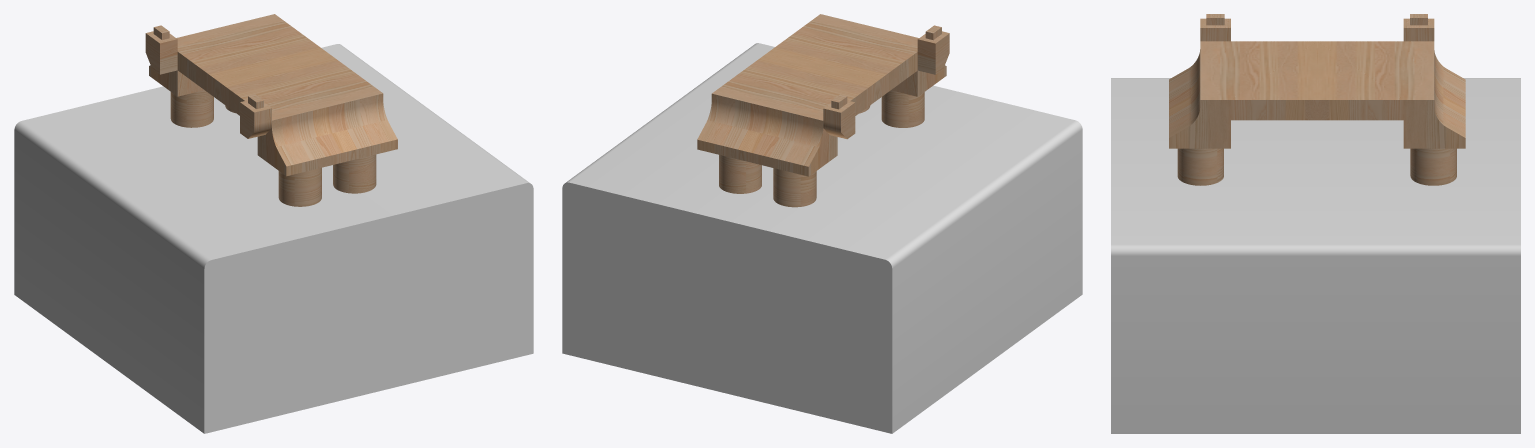
File: Start.fbx
The picture shows the model from 3 angles, left to right: view 1: azimuth 30°, elevation 25°; view 2: azimuth 150°, elevation 25°; view 3: azimuth 270°, elevation 25°; orthographic projection. The views are drawn at different scales.
Parts seen in each view (by area): view 1: Cube.010; view 2: Cube.010; view 3: Cube.010.
Part boxes in pixels (x1,y1,x2,y2): Cube.010: (14, 14, 533, 433); Cube.010: (562, 14, 1082, 433); Cube.010: (1111, 14, 1520, 433).
Bounding box in the file's own units: 400 × 320 × 400.
